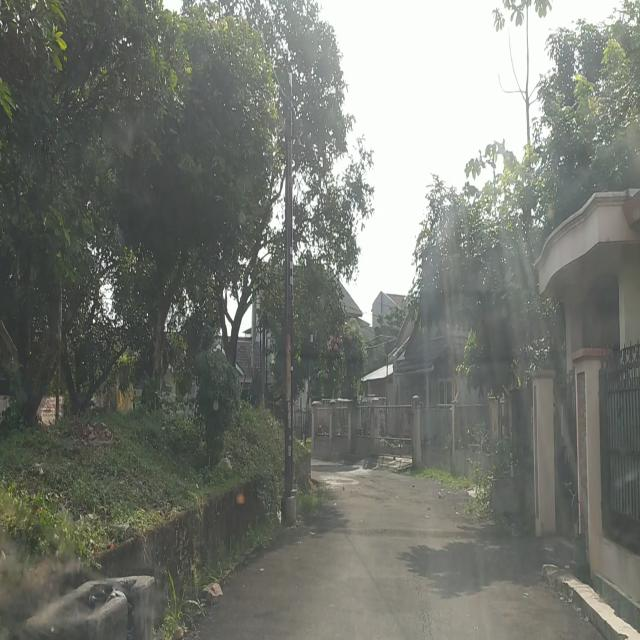Drain Hole: (407, 563, 441, 640)
